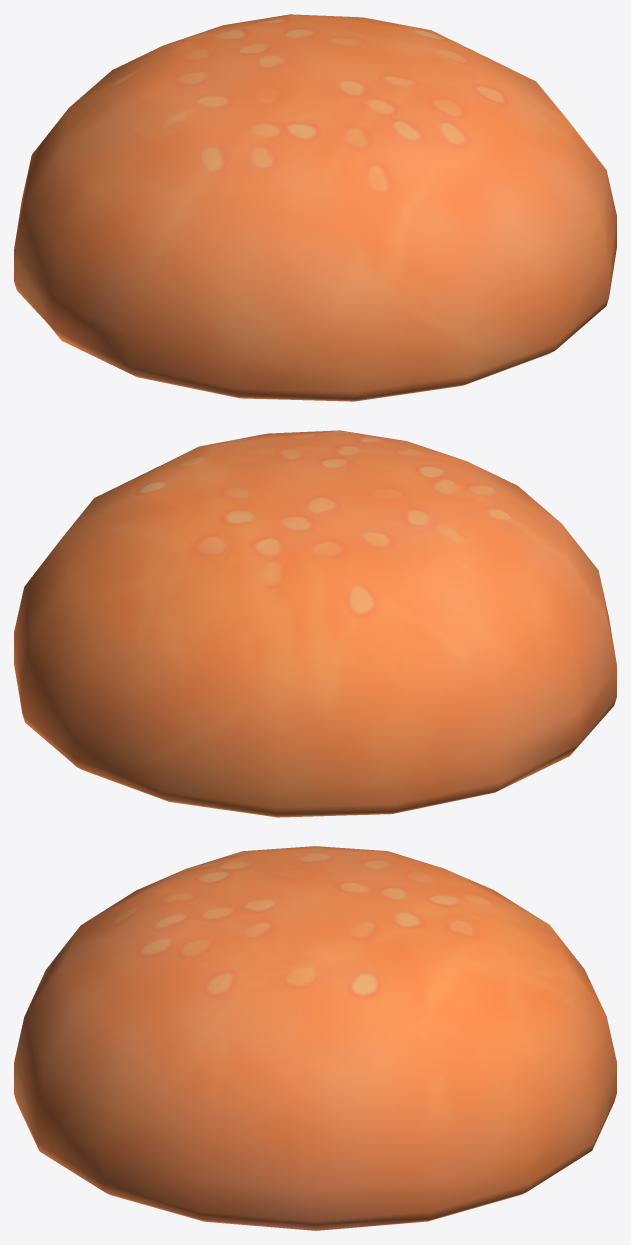
File: topBun.glb
3 renders of one model, top to bottom at view 1: azimuth 30°, elevation 25°; view 2: azimuth 150°, elevation 25°; view 3: azimuth 270°, elevation 25°, orthographic.
Visible parts, largest first — view 1: topbun_low; view 2: topbun_low; view 3: topbun_low.
Boxes of the visible parts, bbox=[...] form: topbun_low: bbox=[14, 14, 616, 401]; topbun_low: bbox=[14, 430, 616, 817]; topbun_low: bbox=[14, 846, 616, 1230].
Bounding box in the file's own units: 0.2207 × 0.0862 × 0.2208.
1 material, 1 textured.
